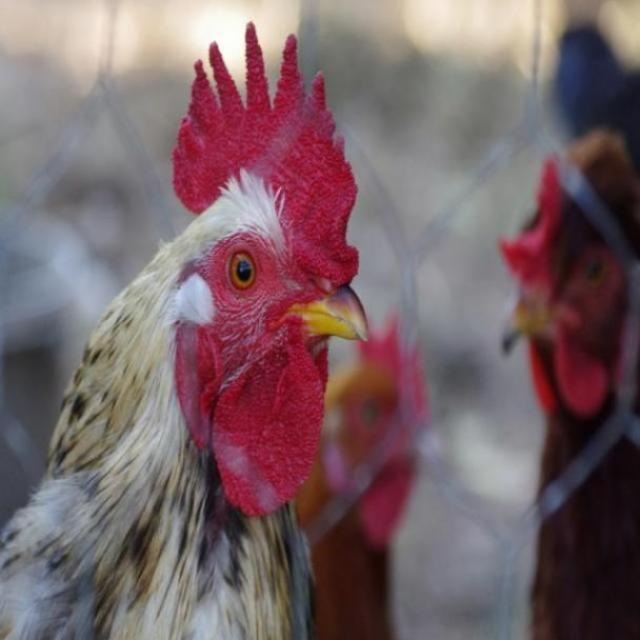Chicken: (0, 7, 368, 639)
